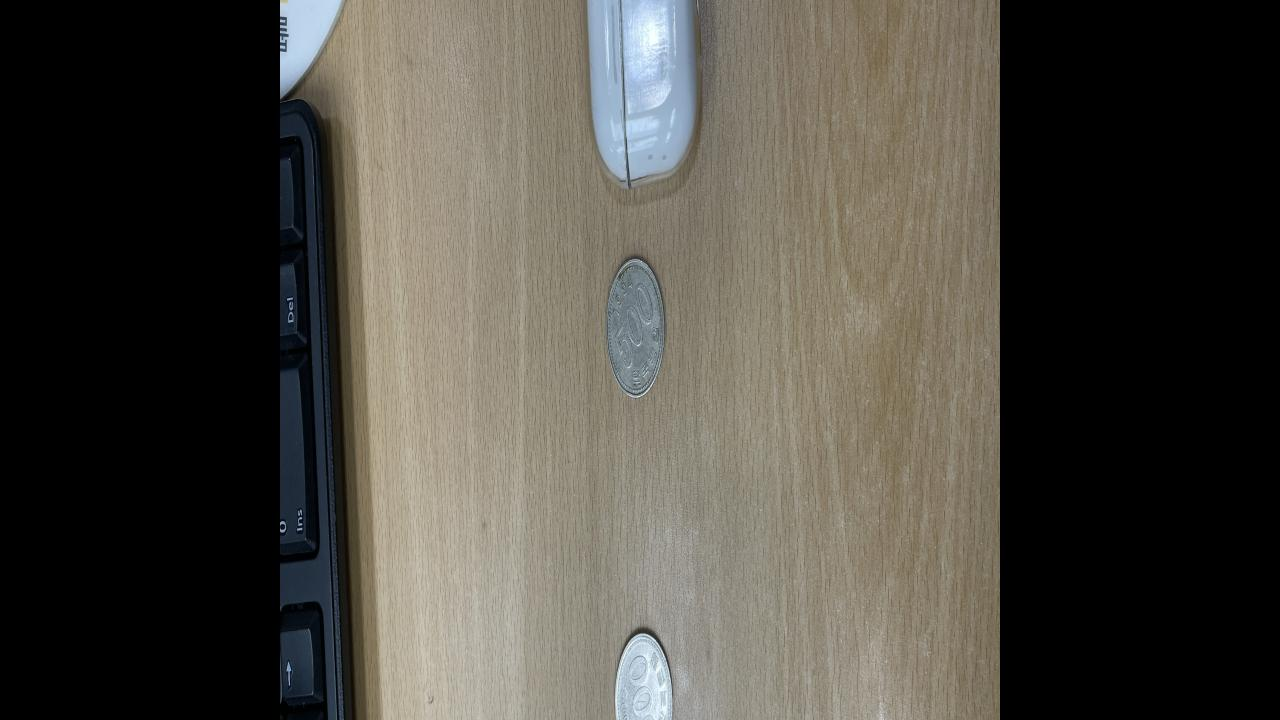coin: (606, 258, 664, 398), (614, 628, 672, 720)
